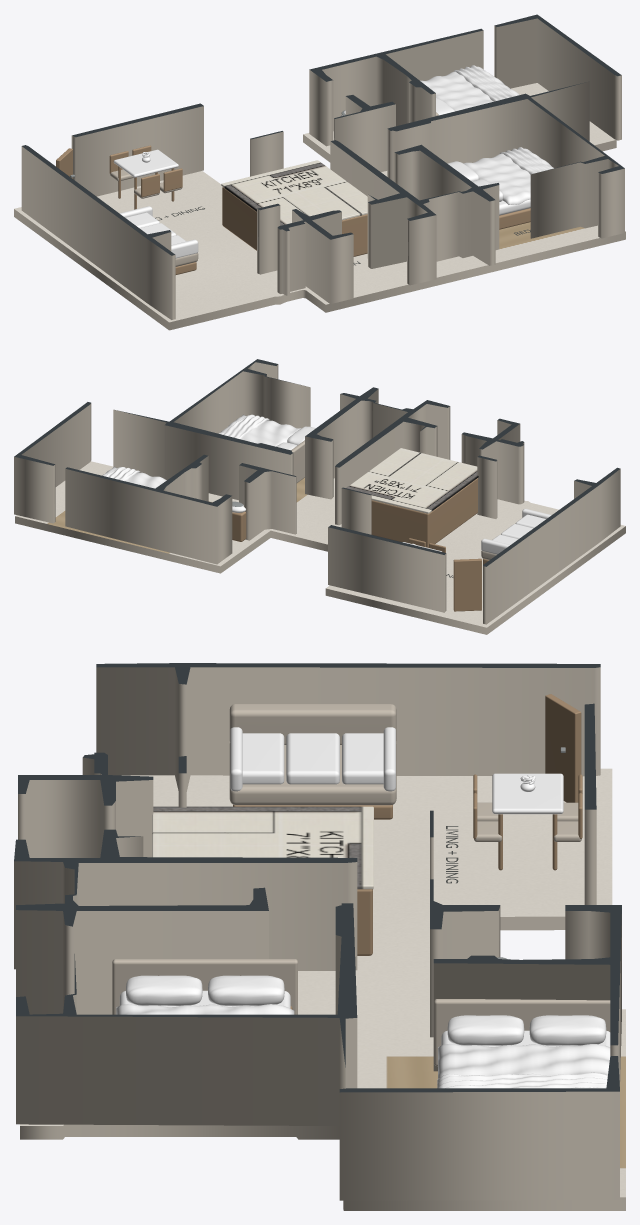
Rendered from coral-group-unit-07.glb.
3 views of the same model, one above another, from view 1: azimuth 30°, elevation 25°; view 2: azimuth 150°, elevation 25°; view 3: azimuth 270°, elevation 25° (orthographic). The views are drawn at different scales.
Parts seen in each view (by area): view 1: Partition walls, Apartment floor, Stone worktop, Kitchen cabinets, Draped bed linen, Draped bed linen.002, Marble dining top, Draped bed linen.003, Draped bed linen.001, Walnut upholstered base; view 2: Partition walls, Apartment floor, Stone worktop, Kitchen cabinets, Open oak door, Draped bed linen, Draped bed linen.001, Draped bed linen.002, Vanity cabinet.001, Upholstered headboard; view 3: Partition walls, Apartment floor, Stone worktop, Draped bed linen.002, Sofa back, Upholstered headboard, Upholstered sofa frame, Upholstered headboard.001, Open oak door, Marble dining top, Seat cushion.001, Draped bed linen.003 (+10 smaller).
Part boxes in pixels (box(x1,y1,x2,y2)): Partition walls: box(21, 14, 624, 319); Apartment floor: box(14, 83, 625, 330); Stone worktop: box(221, 160, 367, 225); Kitchen cabinets: box(222, 187, 367, 256); Draped bed linen: box(463, 148, 553, 204); Draped bed linen.002: box(420, 66, 519, 111); Marble dining top: box(113, 149, 178, 177); Draped bed linen.003: box(454, 65, 515, 101); Draped bed linen.001: box(499, 147, 550, 174); Walnut upholstered base: box(499, 208, 530, 229); Partition walls: box(14, 359, 620, 624); Apartment floor: box(15, 461, 625, 634); Stone worktop: box(346, 448, 478, 513); Kitchen cabinets: box(371, 478, 477, 547); Open oak door: box(453, 558, 481, 611); Draped bed linen: box(218, 414, 300, 446); Draped bed linen.001: box(221, 414, 269, 439); Draped bed linen.002: box(102, 466, 166, 488); Vanity cabinet.001: box(232, 511, 246, 541); Upholstered headboard: box(291, 440, 304, 482); Partition walls: box(14, 663, 621, 1200); Apartment floor: box(20, 768, 625, 1210); Stone worktop: box(152, 806, 373, 889); Draped bed linen.002: box(438, 1044, 610, 1085); Sofa back: box(229, 704, 396, 744); Upholstered headboard: box(112, 959, 297, 1014); Upholstered sofa frame: box(229, 742, 396, 805); Upholstered headboard.001: box(434, 999, 610, 1066); Open oak door: box(545, 694, 581, 802); Marble dining top: box(492, 773, 563, 814); Seat cushion.001: box(286, 733, 339, 784); Draped bed linen.003: box(437, 1072, 607, 1088).
Bounding box in the file's own units: 10.96 × 1.44 × 6.56.
Materials: 12 (2 with a texture image).
